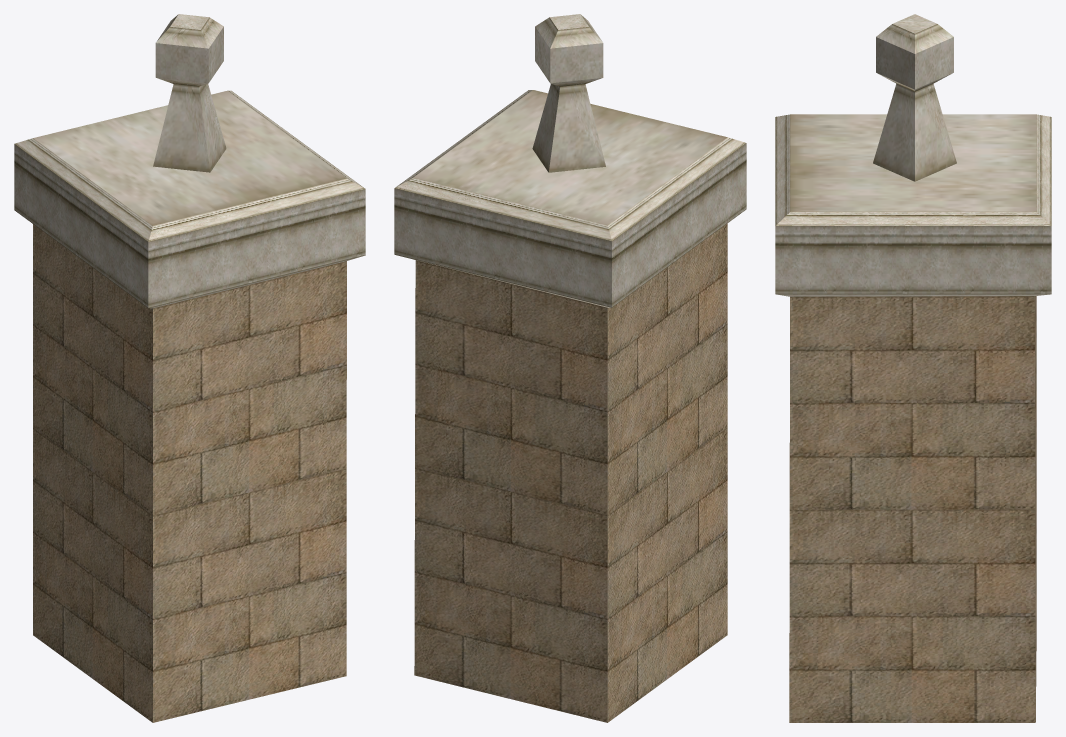
File: thm_nboo_imprv_pillar_s02_l1.fbx
3 views of the same model, side by side, from view 1: azimuth 30°, elevation 25°; view 2: azimuth 150°, elevation 25°; view 3: azimuth 270°, elevation 25° (orthographic). The views are drawn at different scales.
Parts seen in each view (by area): view 1: mesh_node; view 2: mesh_node; view 3: mesh_node.
Part boxes in pixels (x1,y1,x2,y2): mesh_node: (14,14,365,722); mesh_node: (394,14,746,722); mesh_node: (775,14,1051,722).
Bounding box in the file's own units: 2.28 × 6.33 × 2.43.
Materials: 1 (1 with a texture image).
